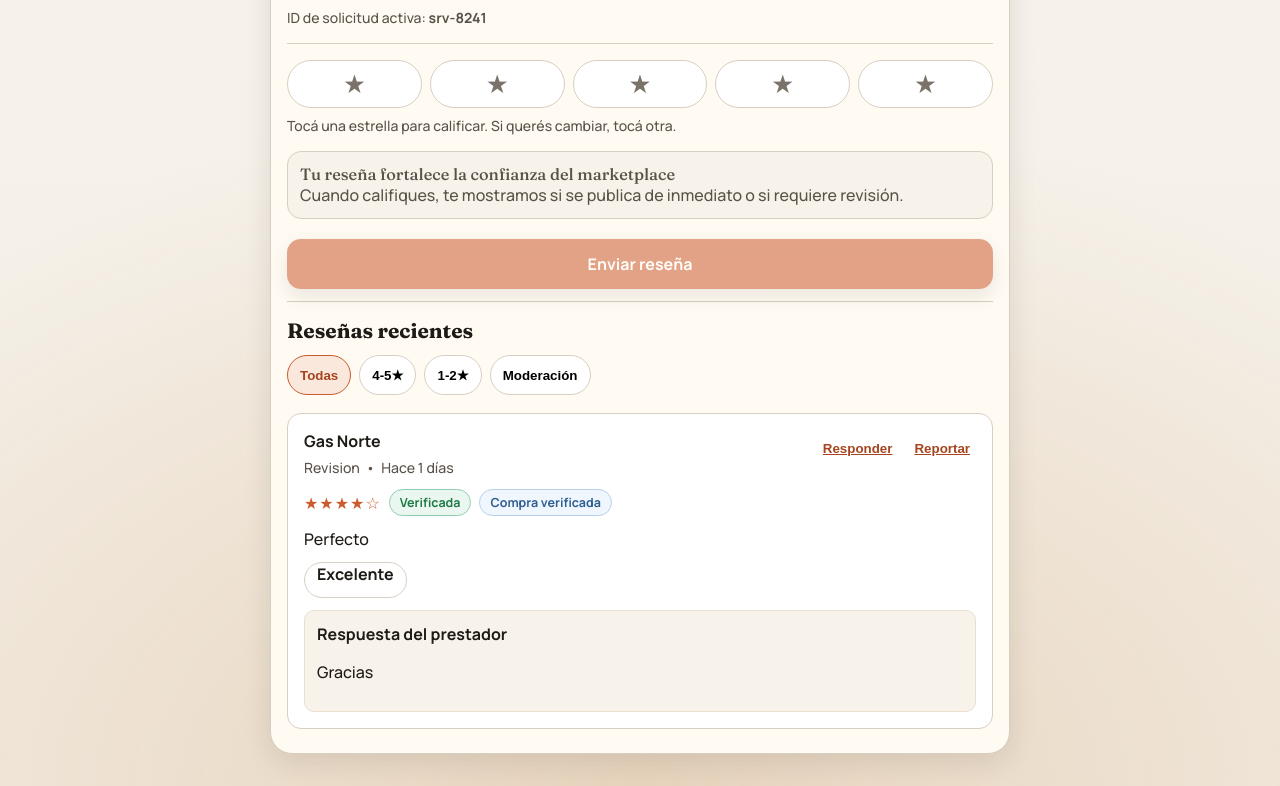
it: MobileReviewFlow › traps keyboard focus inside respond modal and restores focus on close
This screenshot has width=1280, height=786.
(page scrolled)
Click the button with aria-label "Responder actualización de Gas Norte" at (858, 448), box [817,430,898,466]
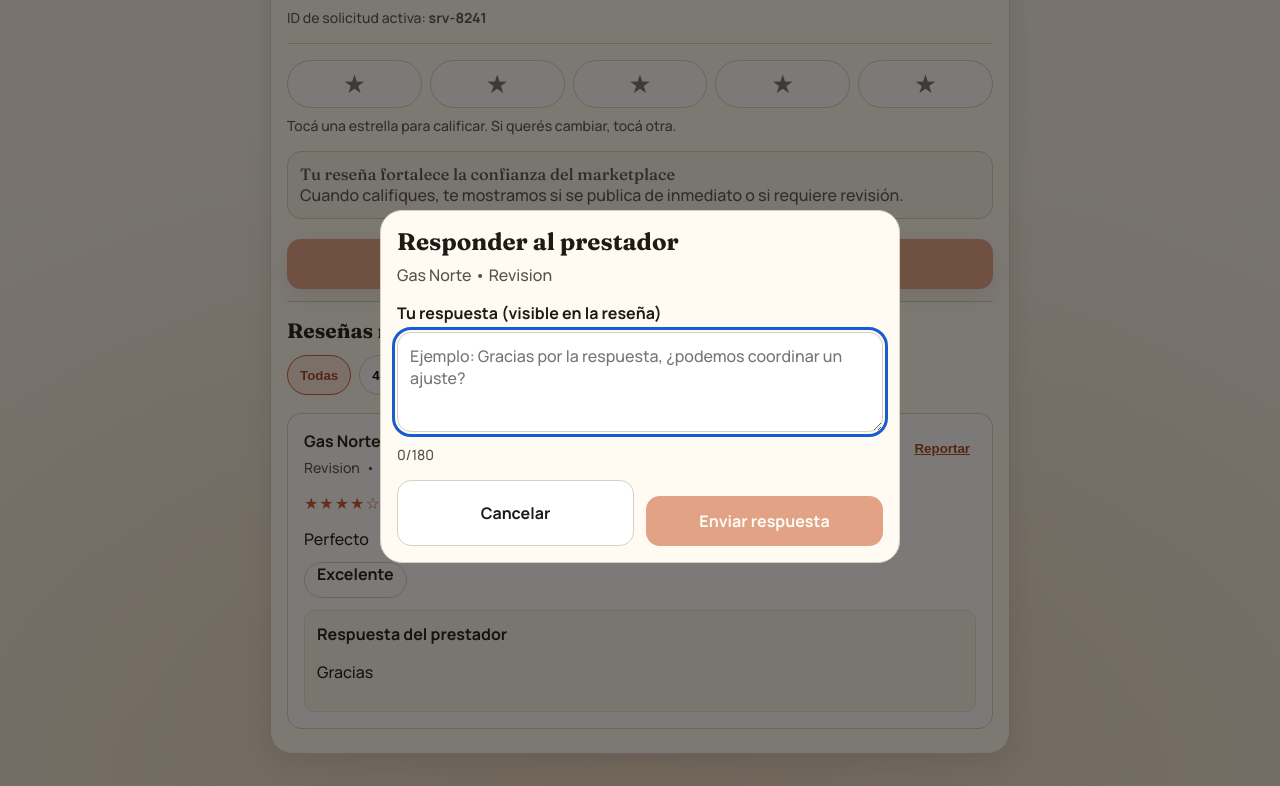
Type "Gracias por responder" into the text box labelled "Tu respuesta (visible en la reseña)" at (640, 382), box [397,332,883,432]
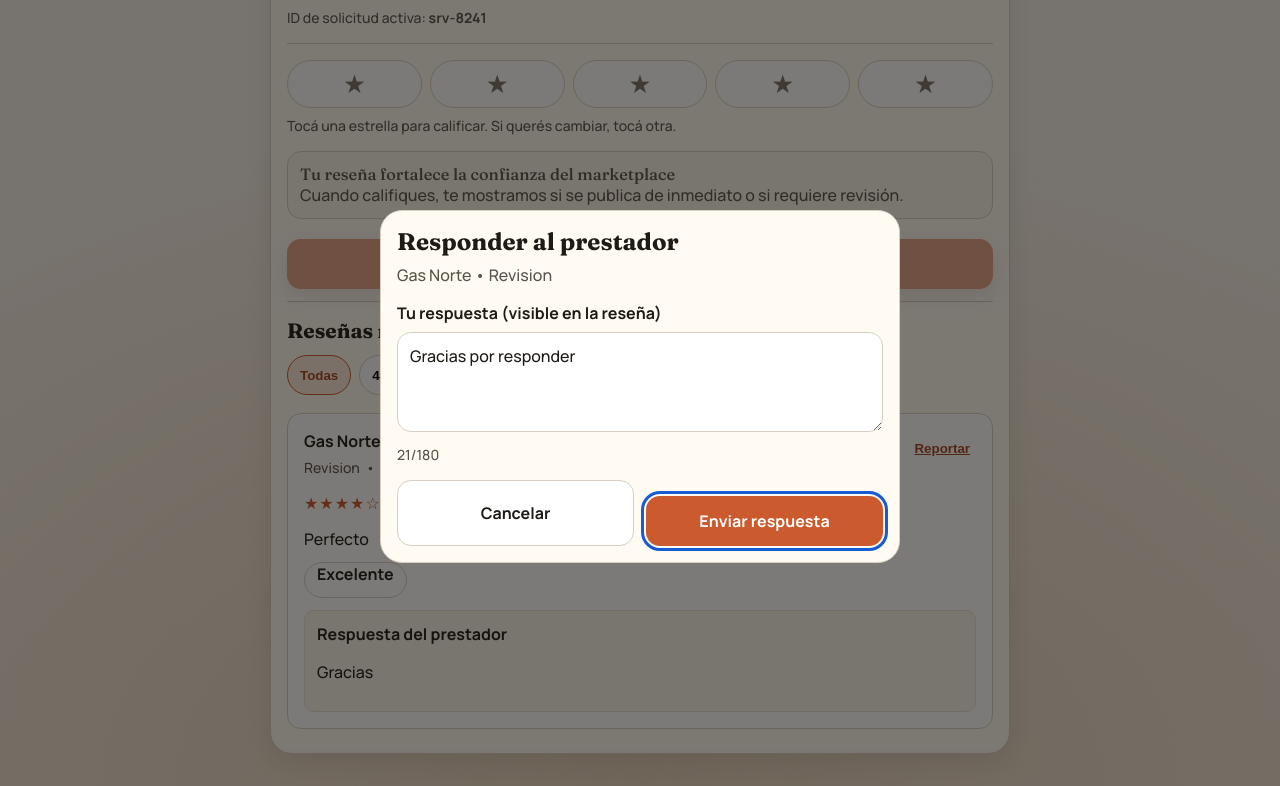
Press Tab
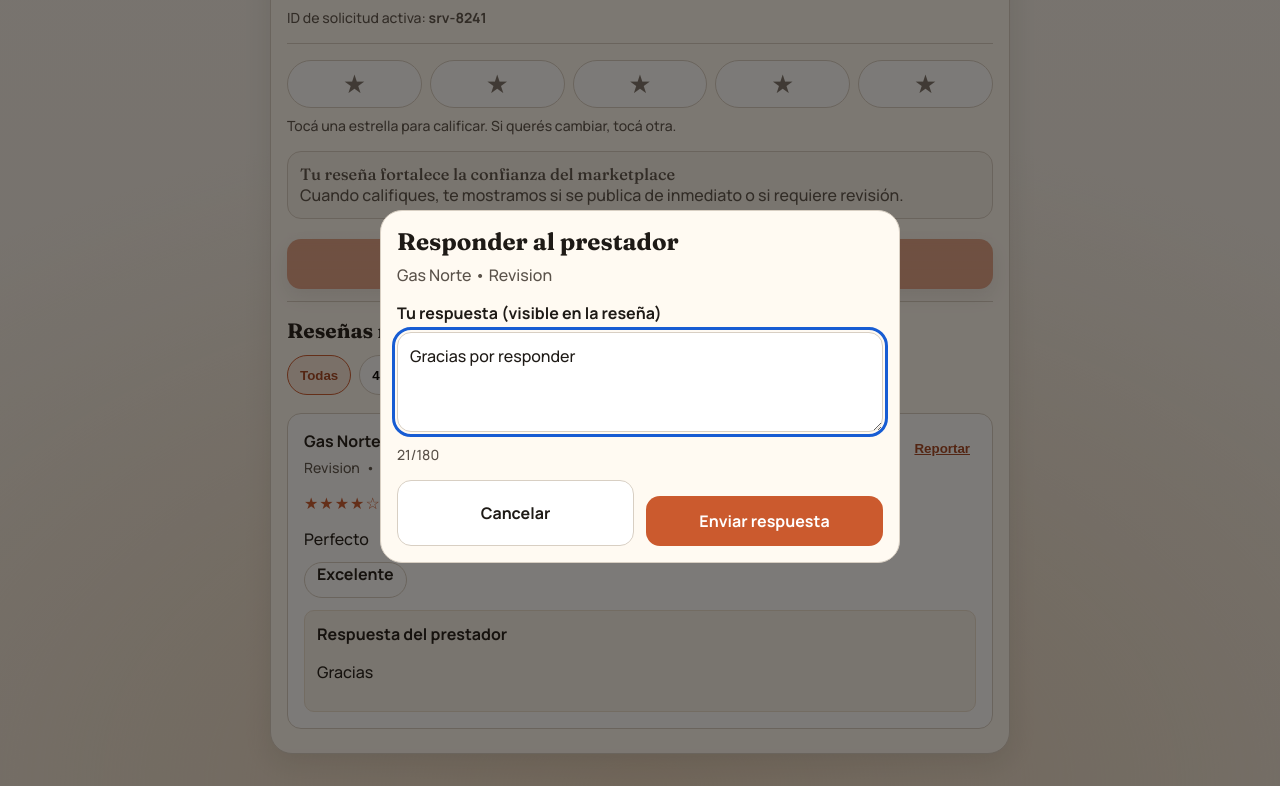
Press Escape
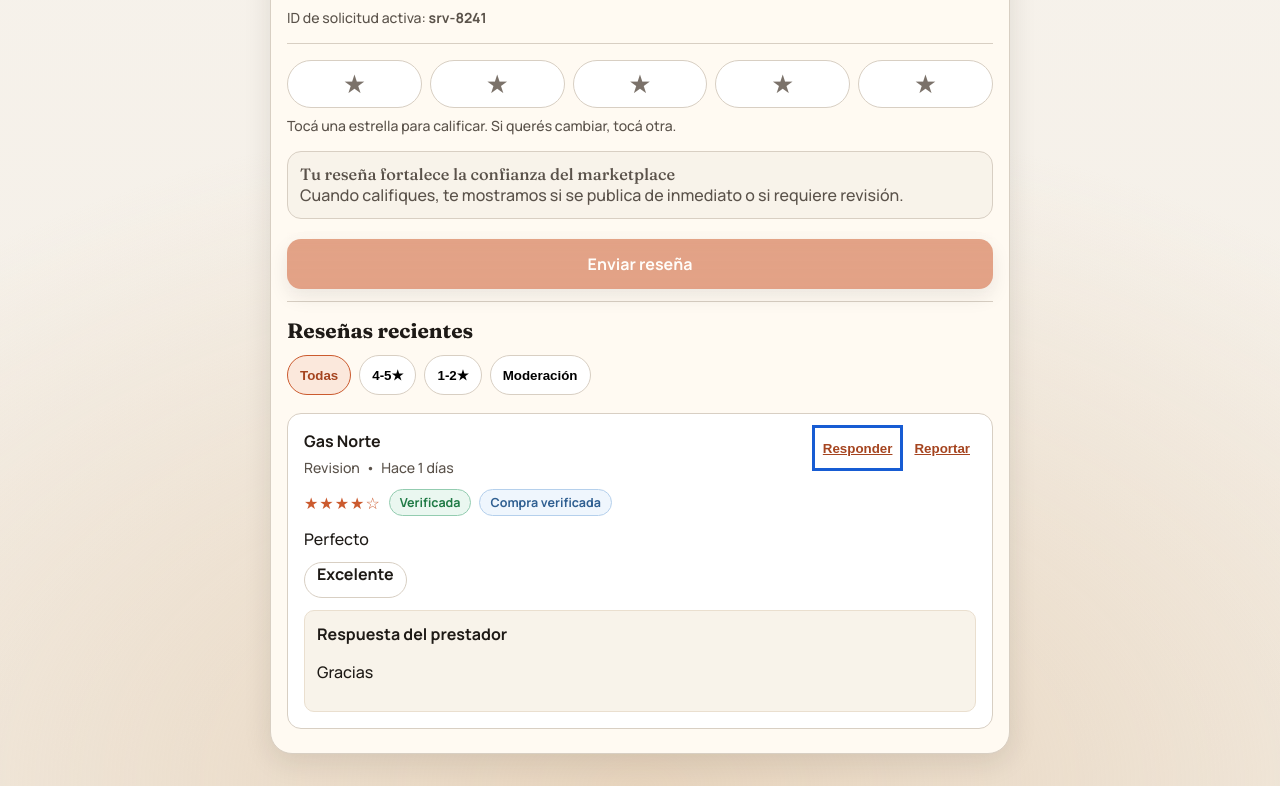
Result: the heading "Responder al prestador" is gone
